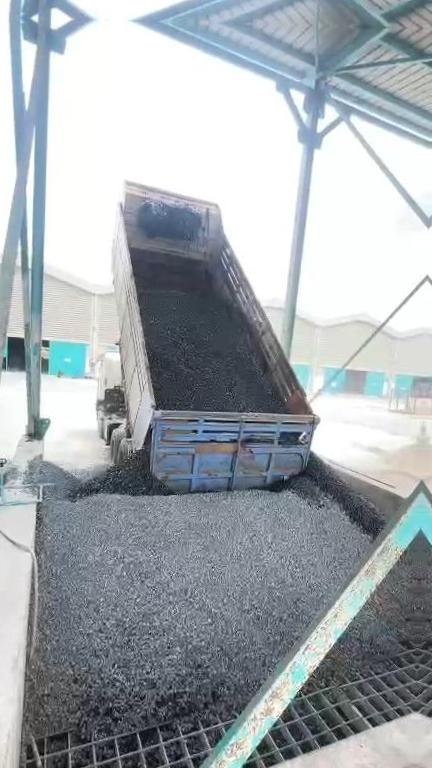gravel: (23, 424, 388, 734), (144, 290, 284, 411), (316, 551, 419, 684)
sand: (348, 441, 422, 493)
